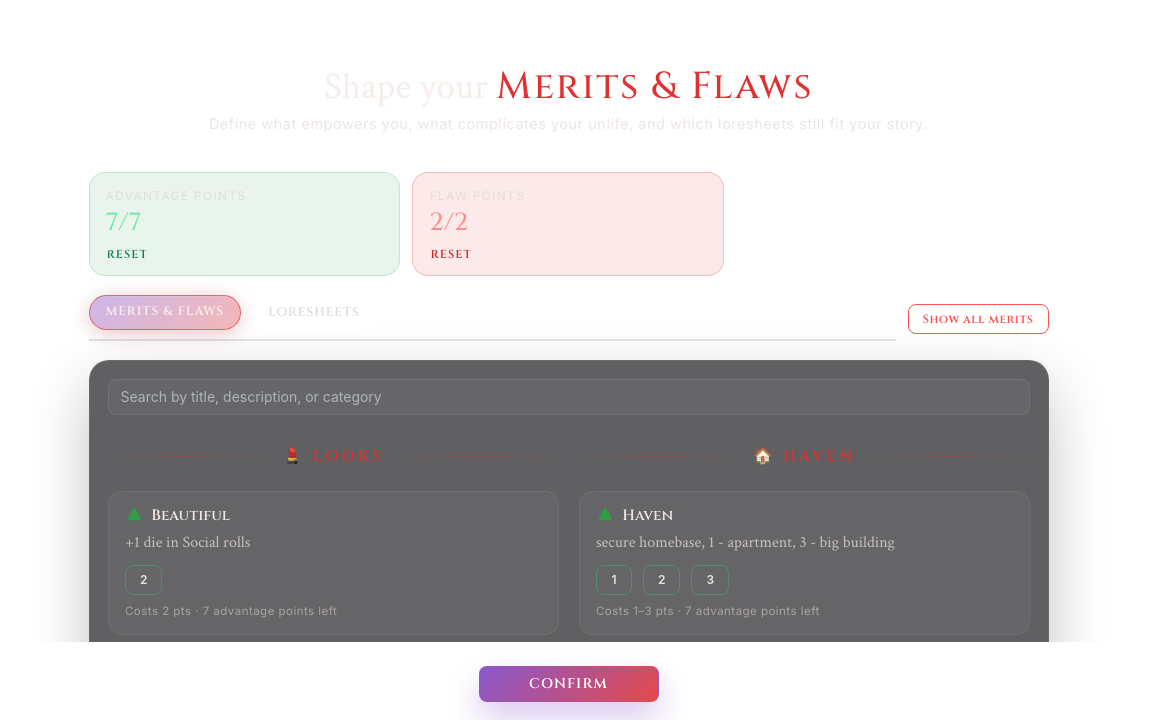
Test case: Merits & Flaws affordability › filters by case-insensitive title, description, and category substrings
This screenshot has width=1152, height=720.
Step 1. Type "LoOkS" into the field named "Search merits and flaws" → (568, 397), box [108,379,1030,415]
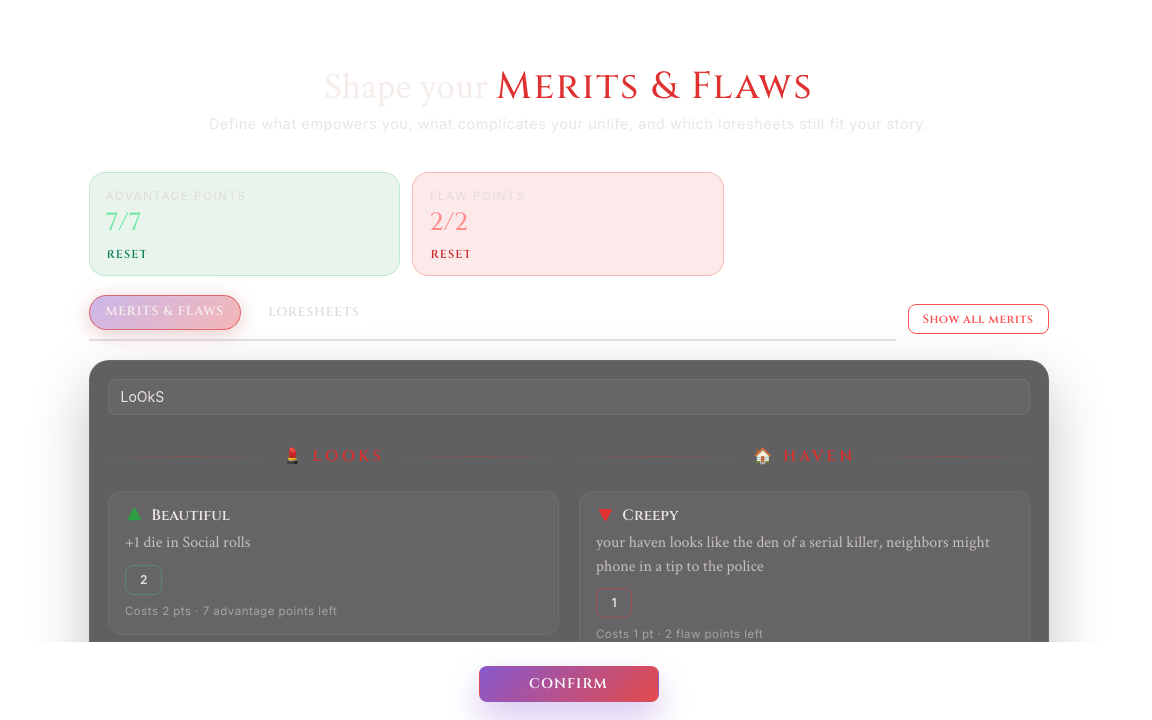
Expected: the text "Beautiful" is shown, [151,504,230,526]
Expected: the text "Watchmen" is not shown
Step 2. Replace the text in the field named "Search merits and flaws" with "secu" → (568, 397), box [108,379,1030,415]
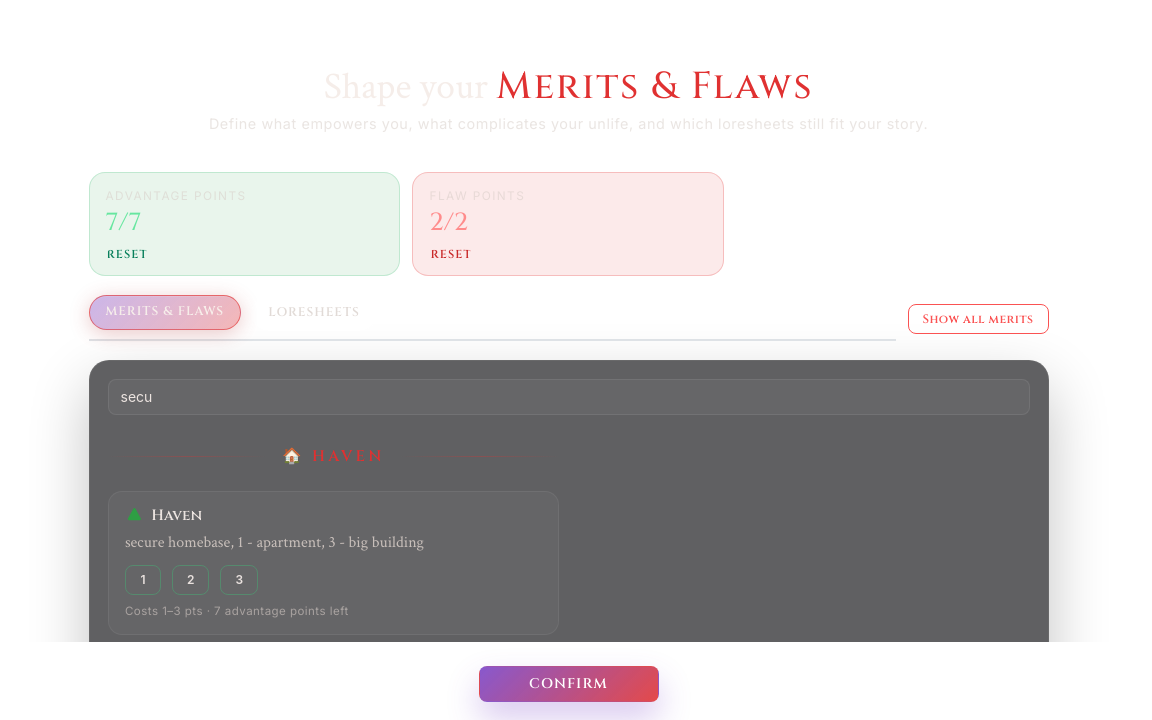
Expected: the text "Haven" is shown, [151,504,202,526]
Expected: the text "Beautiful" is gone
Step 3. Replace the text in the field named "Search merits and flaws" with "watchmen" → (568, 397), box [108,379,1030,415]
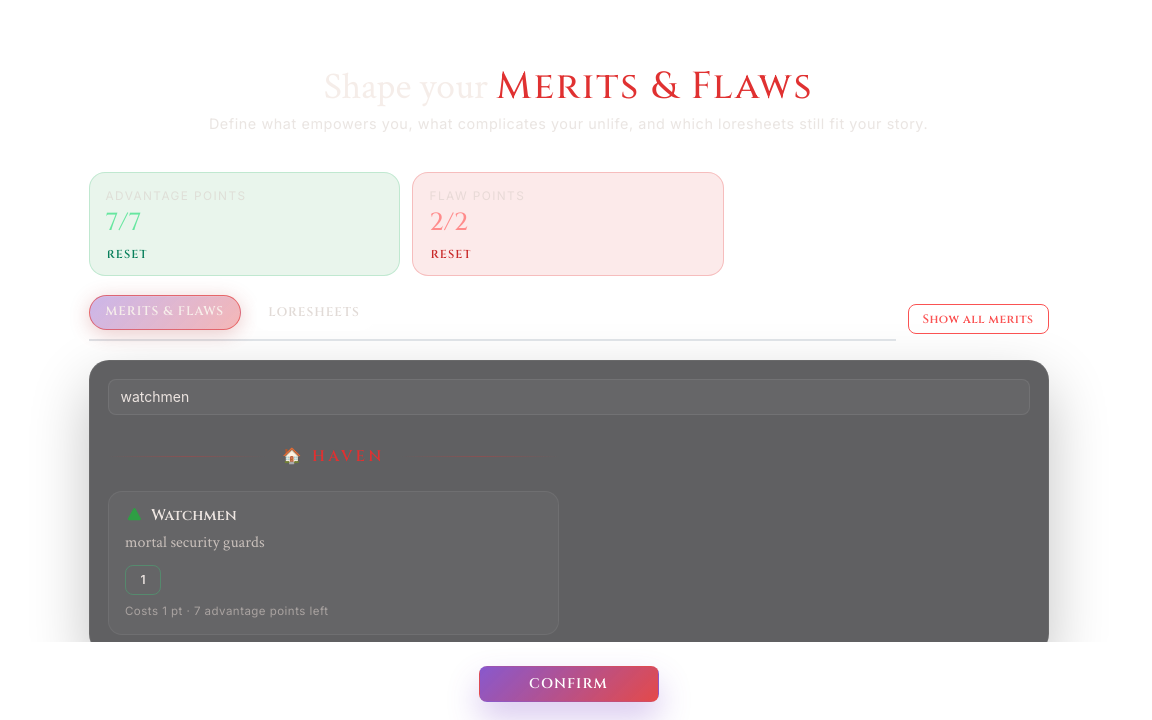
Expected: the text "Beautiful" is not shown
Expected: the text "Watchmen" is shown, [151,504,236,526]
